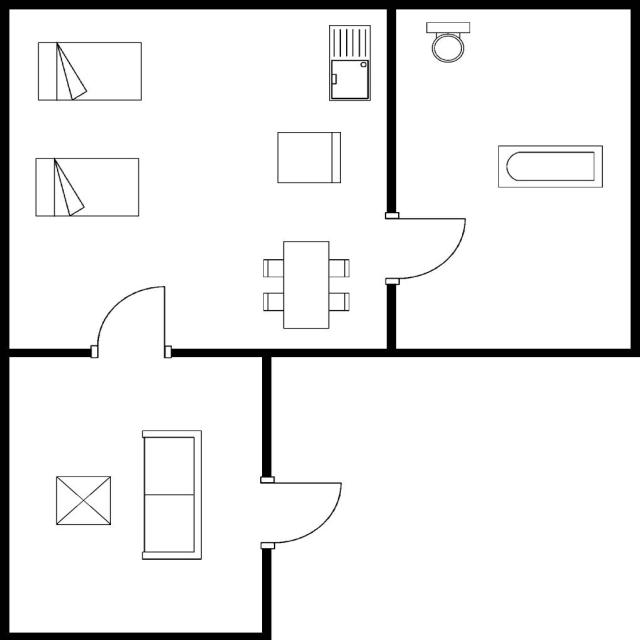bed: (34, 39, 144, 103), (31, 156, 142, 218)
coffee_table: (51, 472, 115, 528)
dining_table: (259, 237, 352, 332)
large_sink: (423, 19, 472, 65)
large_sofa: (139, 428, 203, 562)
sink: (326, 22, 374, 104)
small_sofa: (273, 129, 345, 186)
tub: (494, 143, 606, 191)
